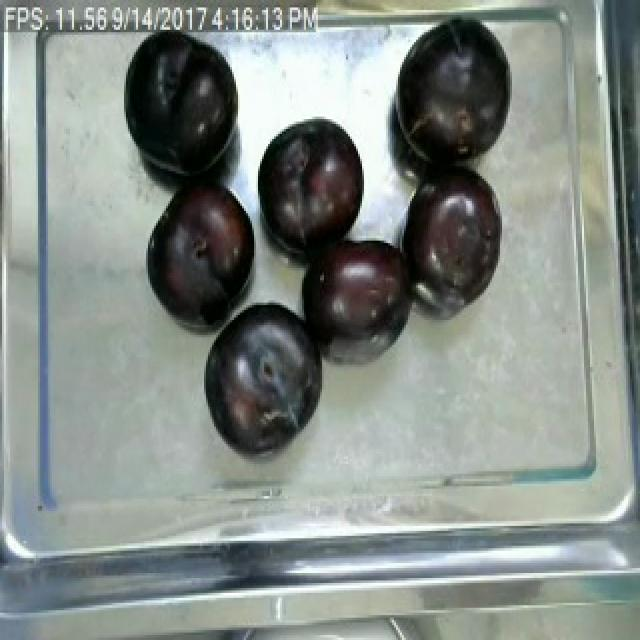Fruit: (196, 298, 328, 457), (390, 15, 512, 169), (118, 30, 242, 181), (142, 176, 262, 330), (250, 109, 374, 258), (296, 226, 426, 354), (396, 164, 506, 308)
